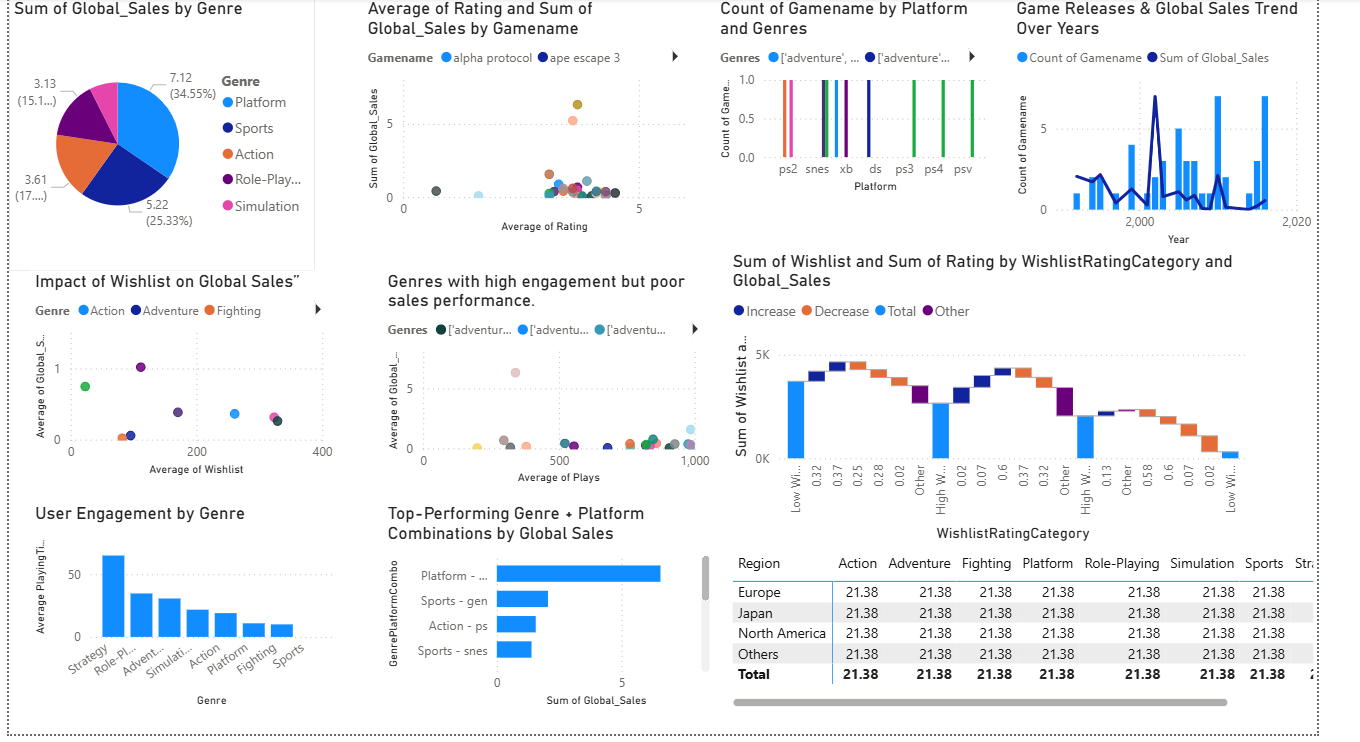

This screenshot's page, from the dashboard's own definition file:
{"tool":"powerbi","page":{"name":"merged","canvas":[1280,720],"ordinal":2},"visuals":[{"type":"pieChart","fields":{"Category":["vgsales.Genre"],"Y":["Sum(vgsales.Global_Sales)"]},"box":[0,0,300,266.7],"z":0},{"type":"scatterChart","fields":{"X":["Avg(merged_data.Rating)"],"Y":["Sum(merged_data.Global_Sales)"],"Series":["merged_data.Gamename"]},"box":[346.1,0,325.3,234.8],"z":1000},{"type":"clusteredColumnChart","fields":{"Category":["merged_data.Platform"],"Y":["CountNonNull(merged_data.Gamename)"],"Series":["merged_data.Genres"]},"box":[690.9,0,270.2,195.7],"z":2000},{"type":"lineClusteredColumnComboChart","title":"Game Releases & Global Sales Trend Over Years","fields":{"Category":["merged_data.Year"],"Y":["CountNonNull(merged_data.Gamename)"],"Y2":["Sum(merged_data.Global_Sales)"]},"box":[980.7,0,299.6,247],"z":3000},{"type":"scatterChart","title":"Impact of Wishlist on Global Sales”","fields":{"X":["Avg(merged_data.Wishlist)"],"Series":["merged_data.Genre"],"Y":["Avg(merged_data.Global_Sales)"]},"box":[20.8,266.6,300.8,205.4],"z":4000},{"type":"scatterChart","title":"Genres with high engagement but poor sales performance.","fields":{"X":["Avg(merged_data.Plays)"],"Series":["merged_data.Genres"],"Y":["Avg(merged_data.Global_Sales)"]},"box":[365.6,266.6,325.3,214],"z":5000},{"type":"waterfallChart","fields":{"Y":["Sum(merged_data.Wishlist)"],"Category":["merged_data.WishlistRatingCategory"],"Breakdown":["merged_data.Global_Sales"]},"box":[703,247,513,289],"z":6000},{"type":"columnChart","title":"User Engagement by Genre","fields":{"Category":["merged_data.Genre"],"Y":["merged_data.Average PlayingTime"]},"box":[21,494,301,204],"z":7000},{"type":"clusteredBarChart","title":"Top-Performing Genre + Platform Combinations by Global Sales","fields":{"Category":["merged_data.GenrePlatformCombo"],"Y":["Sum(merged_data.Global_Sales)"]},"box":[366,494,325,204],"z":8000},{"type":"pivotTable","fields":{"Rows":["RegionChart.Region"],"Columns":["merged_data.Genre"],"Values":["RegionChart.Total_Regional_Sales"]},"box":[702.6,536.5,577.7,161.9],"z":9000}]}

Visuals, with their boxes on the page's 1280x720 design canvas (x1, y1, x2, y2). These are canvas units, not pixel positions in the 1360x742 screenshot, which may show the page scaled, cropped or inside an application window:
pieChart - vgsales.Genre x Sum(vgsales.Global_Sales): box=[0, 0, 300, 267]
scatterChart - Avg(merged_data.Rating) x Sum(merged_data.Global_Sales): box=[346, 0, 671, 235]
clusteredColumnChart - merged_data.Platform x CountNonNull(merged_data.Gamename): box=[691, 0, 961, 196]
"Game Releases & Global Sales Trend Over Years" lineClusteredColumnComboChart: box=[981, 0, 1280, 247]
"Impact of Wishlist on Global Sales”" scatterChart: box=[21, 267, 322, 472]
"Genres with high engagement but poor sales performance." scatterChart: box=[366, 267, 691, 481]
waterfallChart - Sum(merged_data.Wishlist) x merged_data.WishlistRatingCategory: box=[703, 247, 1216, 536]
"User Engagement by Genre" columnChart: box=[21, 494, 322, 698]
"Top-Performing Genre + Platform Combinations by Global Sales" clusteredBarChart: box=[366, 494, 691, 698]
pivotTable - RegionChart.Region x merged_data.Genre: box=[703, 536, 1280, 698]
